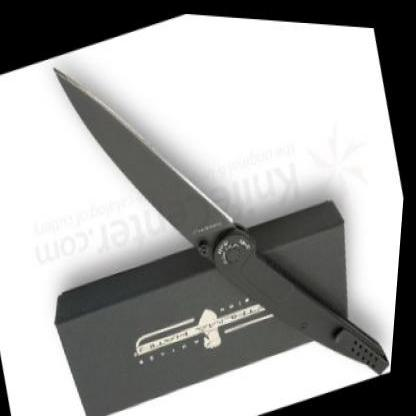knife: (36, 3, 265, 312)
